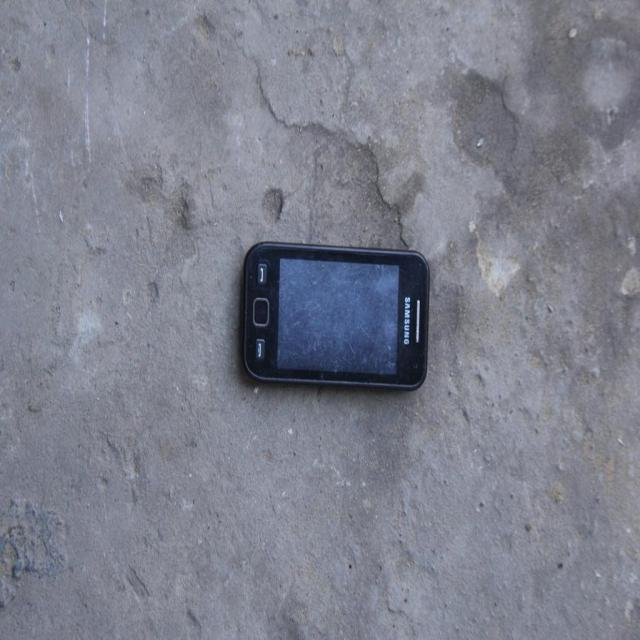Phone: (242, 242, 432, 391)
